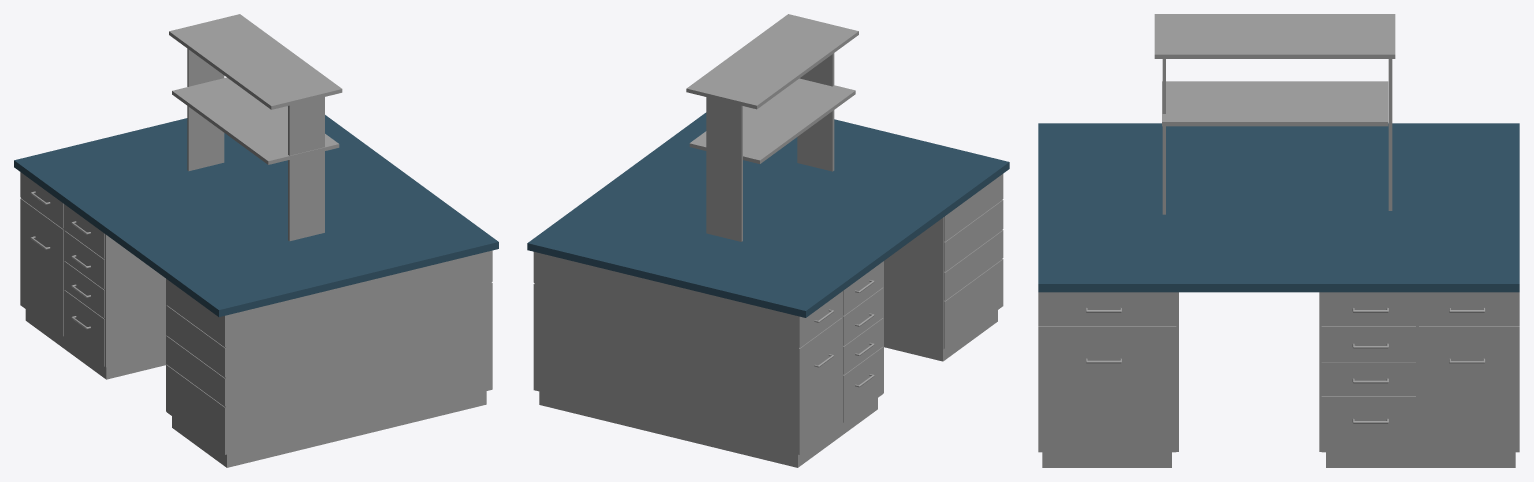
File: lab_bench2.glb
The picture shows the model from 3 angles, left to right: view 1: azimuth 30°, elevation 25°; view 2: azimuth 150°, elevation 25°; view 3: azimuth 270°, elevation 25°; orthographic projection. The views are drawn at different scales.
Parts seen in each view (by area): view 1: Cube, Cube.002, Cube.021, Cube.022, Cube.019, Cube.020; view 2: Cube, Cube.002, Cube.021, Cube.022, Cube.020, Cube.019; view 3: Cube.002, Cube, Cube.021, Cube.022, Cube.001, Cube.020, Cube.019.
Part boxes in pixels (box(x1,y1,x2,y2)): Cube: box(20, 172, 492, 467); Cube.002: box(14, 115, 498, 316); Cube.021: box(169, 14, 342, 109); Cube.022: box(172, 77, 339, 164); Cube.019: box(288, 97, 324, 241); Cube.020: box(187, 48, 224, 170); Cube: box(533, 174, 1003, 467); Cube.002: box(527, 112, 1009, 317); Cube.021: box(686, 14, 858, 109); Cube.022: box(689, 78, 855, 163); Cube.020: box(706, 97, 742, 241); Cube.019: box(797, 53, 834, 171); Cube.002: box(1038, 123, 1519, 292); Cube: box(1038, 292, 1519, 467); Cube.021: box(1154, 14, 1395, 58); Cube.022: box(1162, 81, 1388, 126); Cube.001: box(1321, 396, 1415, 452); Cube.020: box(1388, 59, 1392, 210); Cube.019: box(1162, 59, 1165, 214).
Bounding box in the file's own units: 3.16 × 3.28 × 4.
